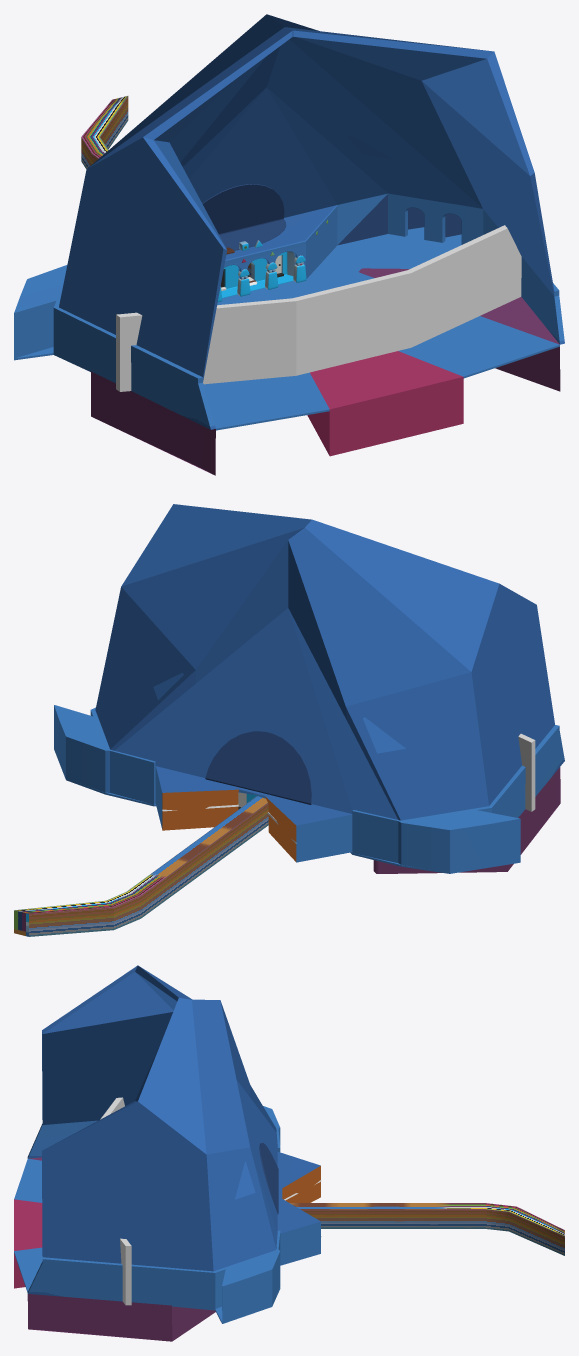
The model's file is mainroom4_nolines.fbx.
3 views of the same model, one above another, from view 1: azimuth 30°, elevation 25°; view 2: azimuth 150°, elevation 25°; view 3: azimuth 270°, elevation 25° (orthographic). The views are drawn at different scales.
Parts seen in each view (by area): view 1: roof, bounds_1, trimat, walls, floor, circle, sidearches, Cube, central_cavity; view 2: roof, walls, Cube, sidearches, circle, trimat, bounds_1, floor; view 3: roof, walls, trimat, Cube, sidearches, floor, bounds_1, circle.
Part boxes in pixels (bbox=[...]): roof: bbox=[59, 14, 554, 381]; bounds_1: bbox=[116, 225, 521, 391]; trimat: bbox=[91, 268, 560, 475]; walls: bbox=[14, 193, 564, 429]; floor: bbox=[14, 227, 559, 430]; circle: bbox=[202, 184, 286, 250]; sidearches: bbox=[224, 205, 337, 278]; Cube: bbox=[81, 96, 251, 276]; central_cavity: bbox=[221, 251, 294, 298]; roof: bbox=[95, 504, 554, 820]; walls: bbox=[54, 705, 564, 872]; Cube: bbox=[14, 796, 268, 936]; sidearches: bbox=[155, 766, 352, 862]; circle: bbox=[205, 731, 311, 804]; trimat: bbox=[373, 767, 560, 873]; bounds_1: bbox=[518, 733, 535, 811]; floor: bbox=[54, 748, 520, 873]; roof: bbox=[42, 965, 277, 1271]; walls: bbox=[27, 1106, 280, 1322]; trimat: bbox=[14, 1157, 215, 1341]; Cube: bbox=[290, 1203, 564, 1255]; sidearches: bbox=[277, 1152, 320, 1265]; floor: bbox=[14, 1158, 280, 1323]; bounds_1: bbox=[100, 1097, 131, 1305]; circle: bbox=[259, 1143, 278, 1213].
Size of the model in its own units: 3592 by 2277 by 4291.
